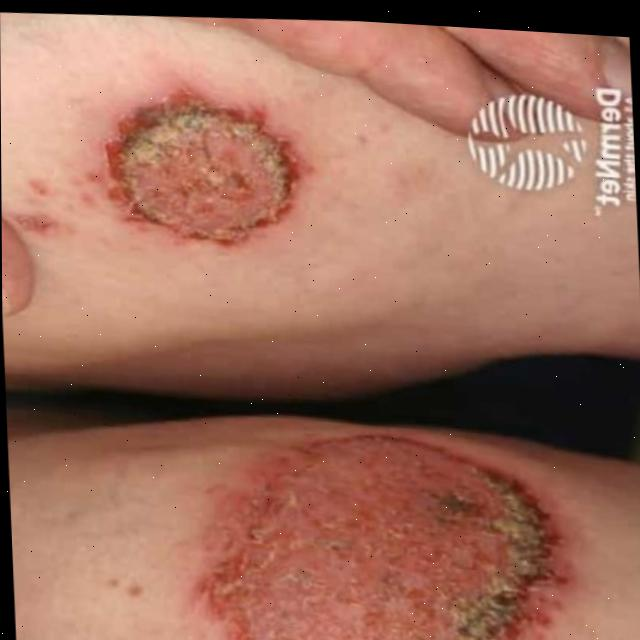Eczema: (235, 427, 544, 631), (117, 89, 328, 258)
